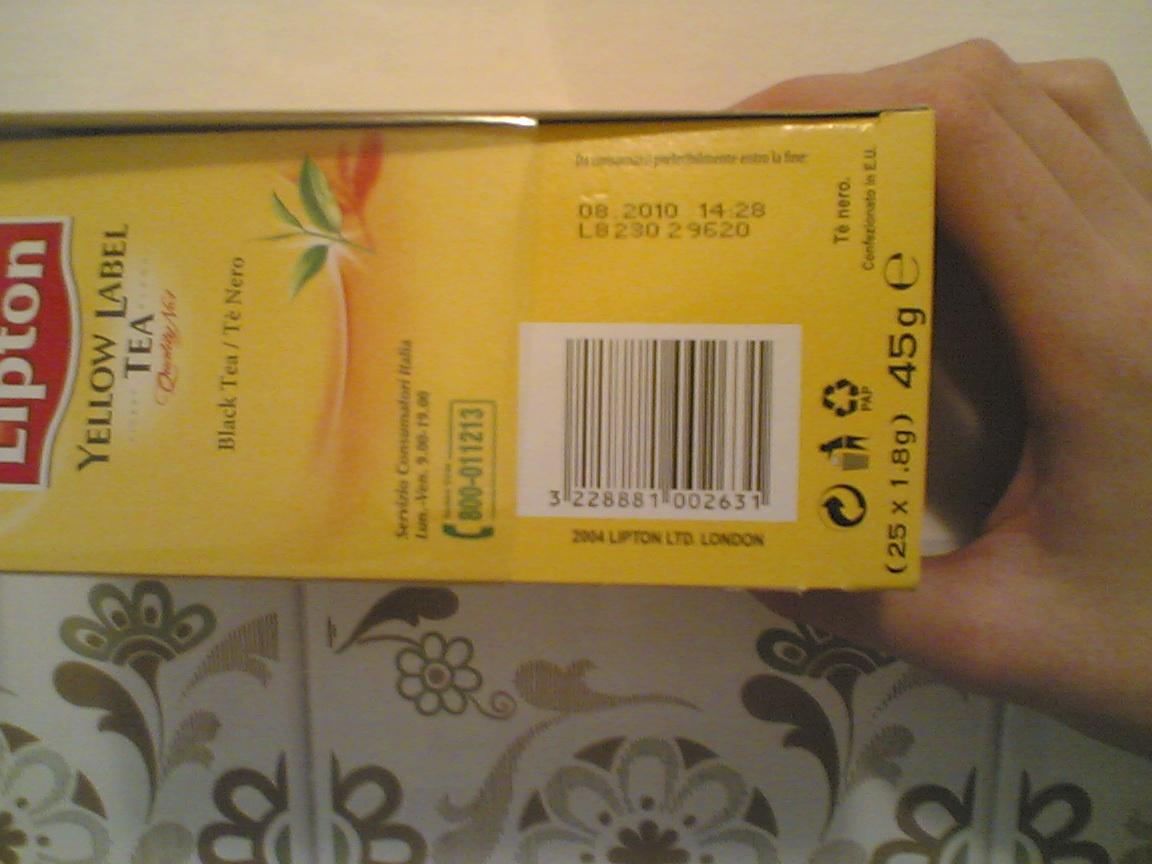Barcode: (517, 328, 801, 519)
